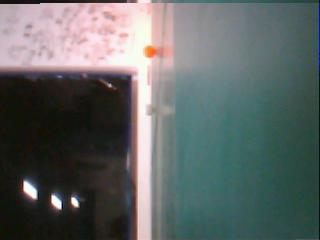oball: (144, 44, 156, 59)
